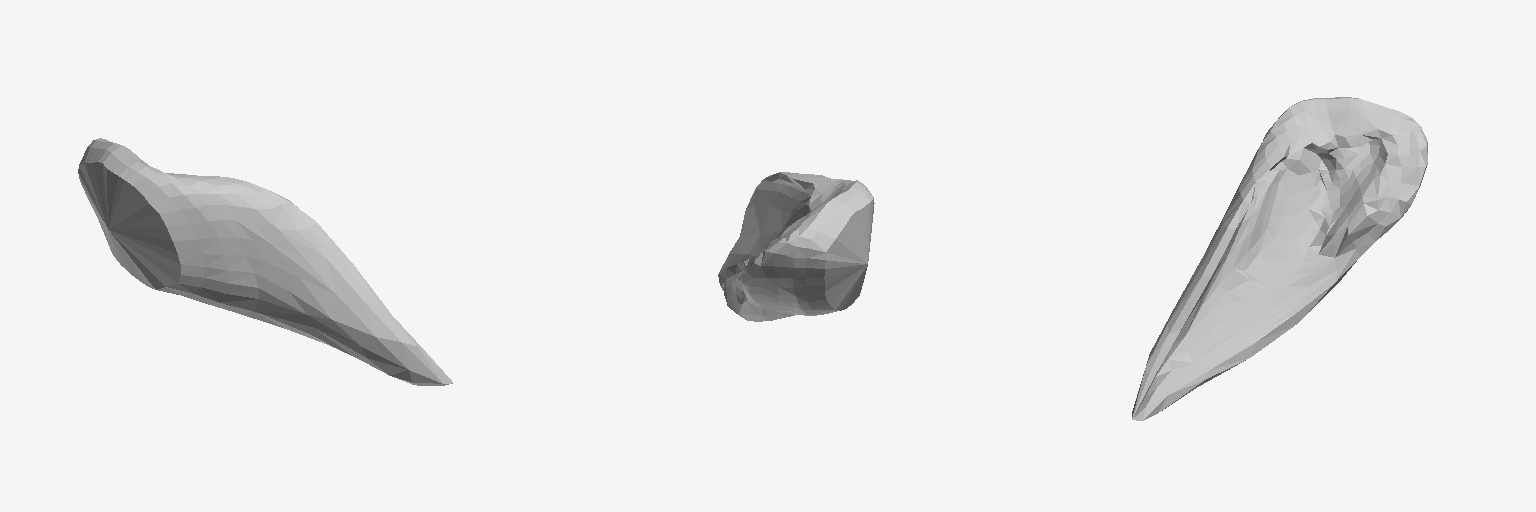
The model's file is elfEar.obj.
3 views of the same model, side by side, from view 1: azimuth 30°, elevation 25°; view 2: azimuth 150°, elevation 25°; view 3: azimuth 270°, elevation 25° (orthographic).
Visible parts, largest first — view 1: elfEar; view 2: elfEar; view 3: elfEar.
Part boxes in pixels (bbox=[...]): elfEar: bbox=[78, 138, 452, 385]; elfEar: bbox=[718, 172, 874, 321]; elfEar: bbox=[1132, 97, 1427, 420].
Size of the model in its own units: 0.3447 by 0.2881 by 0.3568.